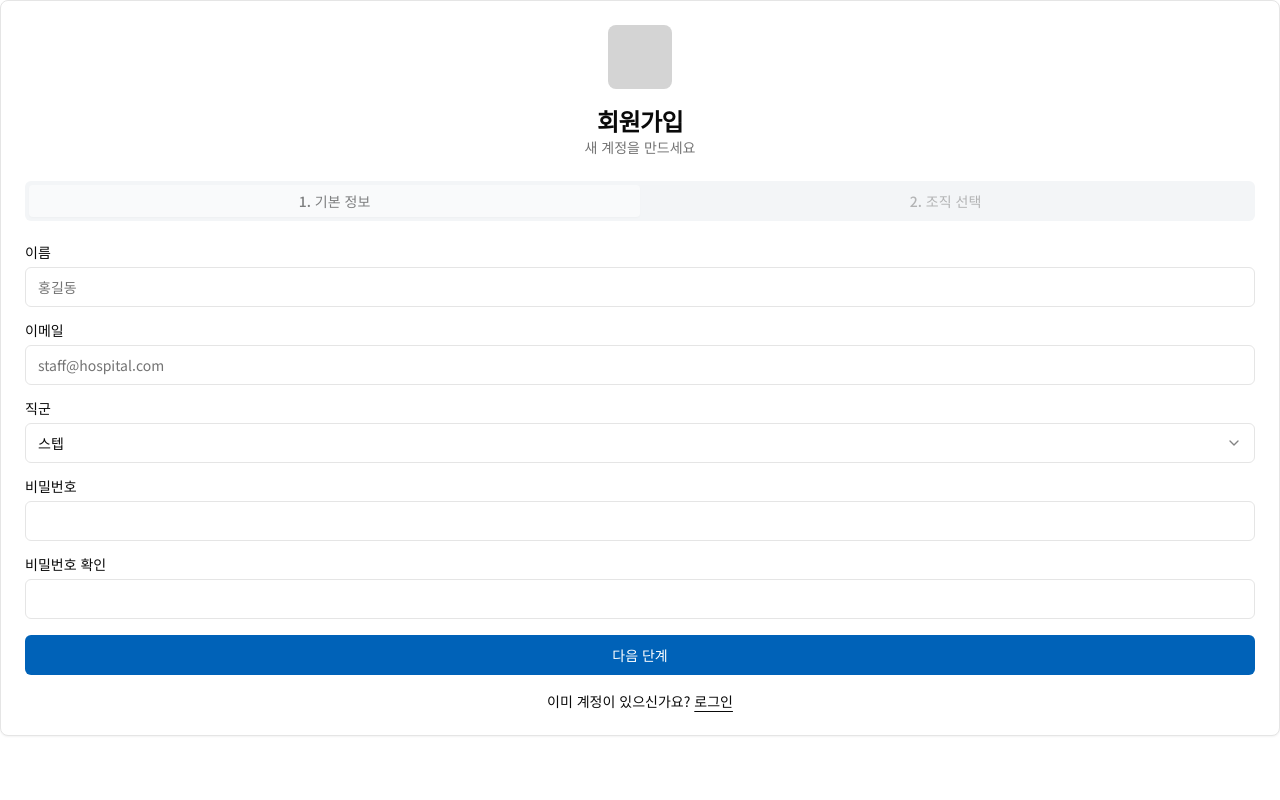
Test: SignUpForm - 중복 제출 방지 › 정상적인 회원가입 플로우가 유지되어야 함
The image size is (1280, 800).
Fill form
Type "테스트유저" into the field labelled "이름".
click(640, 287); type("테스트유저")  # box [25, 267, 1255, 307]
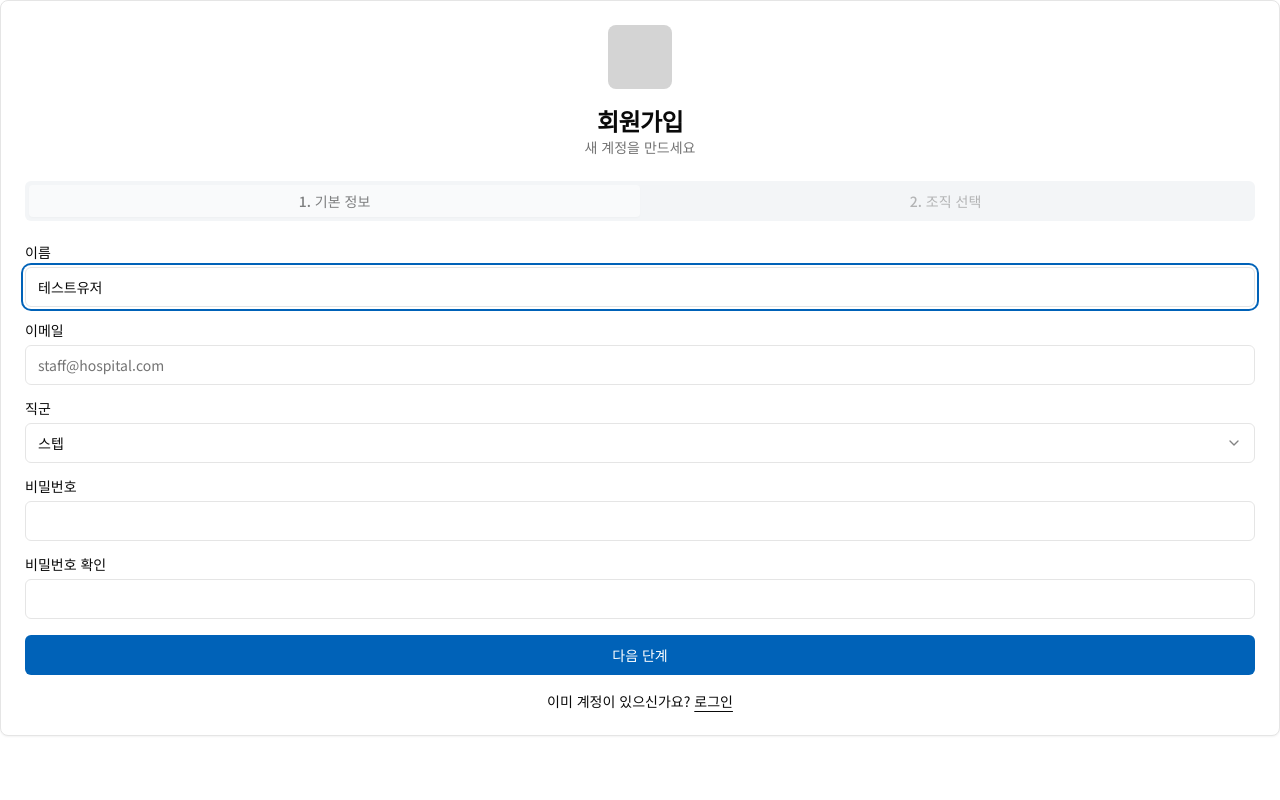
Type "mock-test-user@example.test" into the field labelled "이메일".
click(640, 365); type("mock-test-user@example.test")  # box [25, 345, 1255, 385]
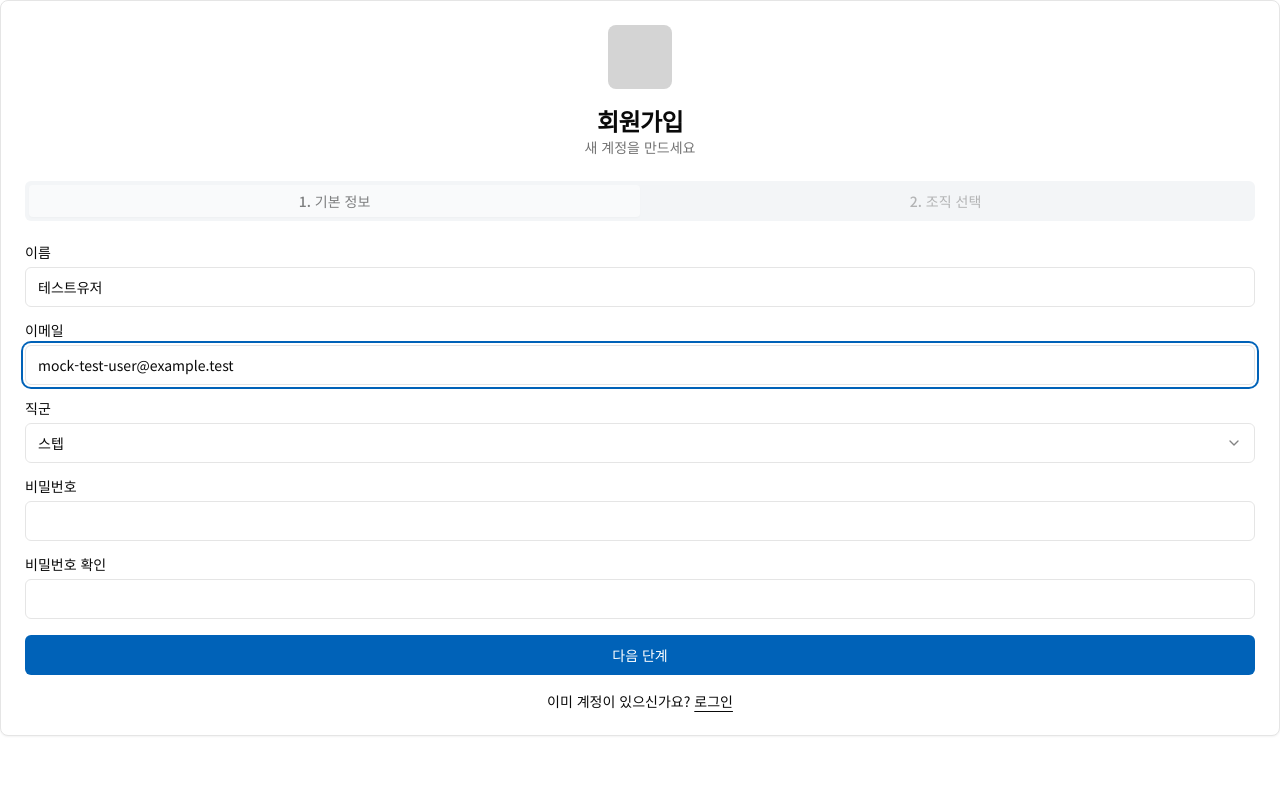
Type "MockTestPassword123!" into the password field labelled "비밀번호".
click(640, 521); type("MockTestPassword123!")  # box [25, 501, 1255, 541]
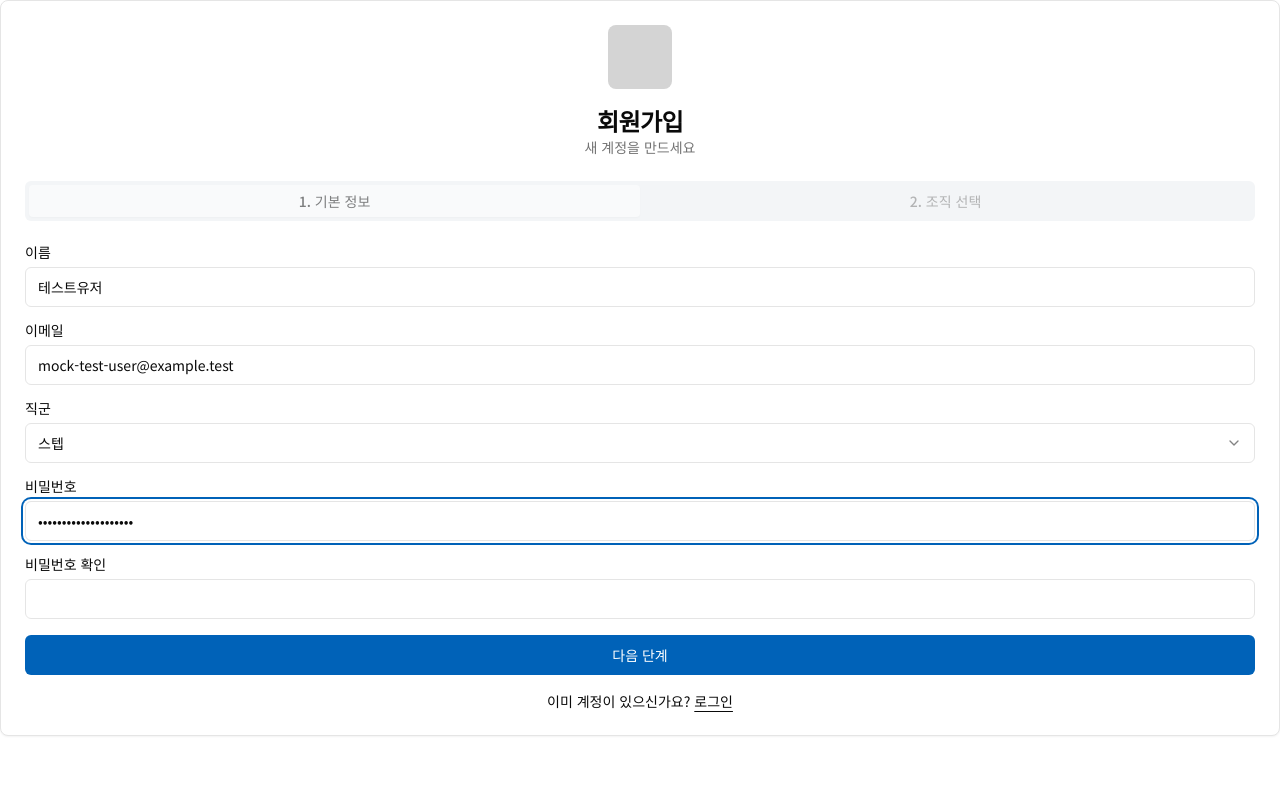
Type "MockTestPassword123!" into the password field labelled "비밀번호 확인".
click(640, 599); type("MockTestPassword123!")  # box [25, 579, 1255, 619]
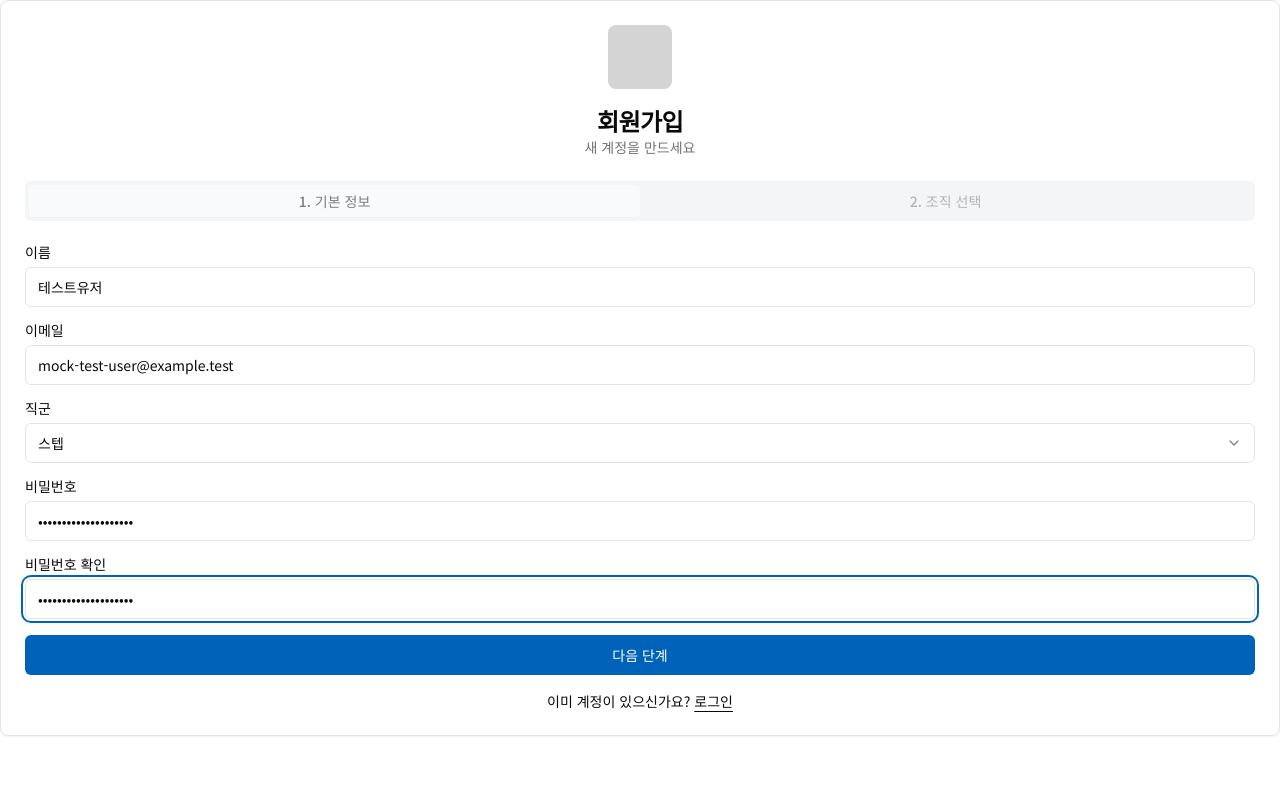
Click the button "다음 단계".
click(640, 655)  # box [25, 635, 1255, 675]
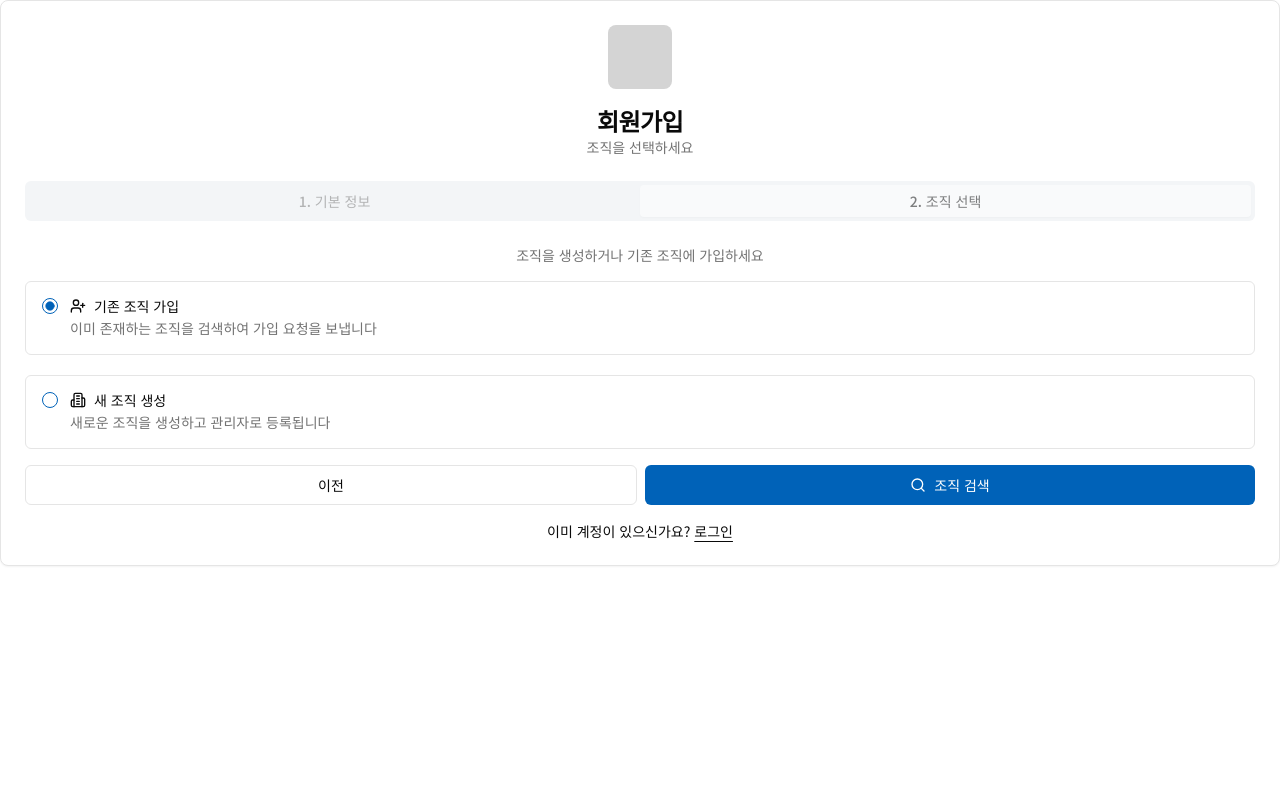
Expected: the text "조직을 선택하세요" is shown, [586, 137, 694, 157]
